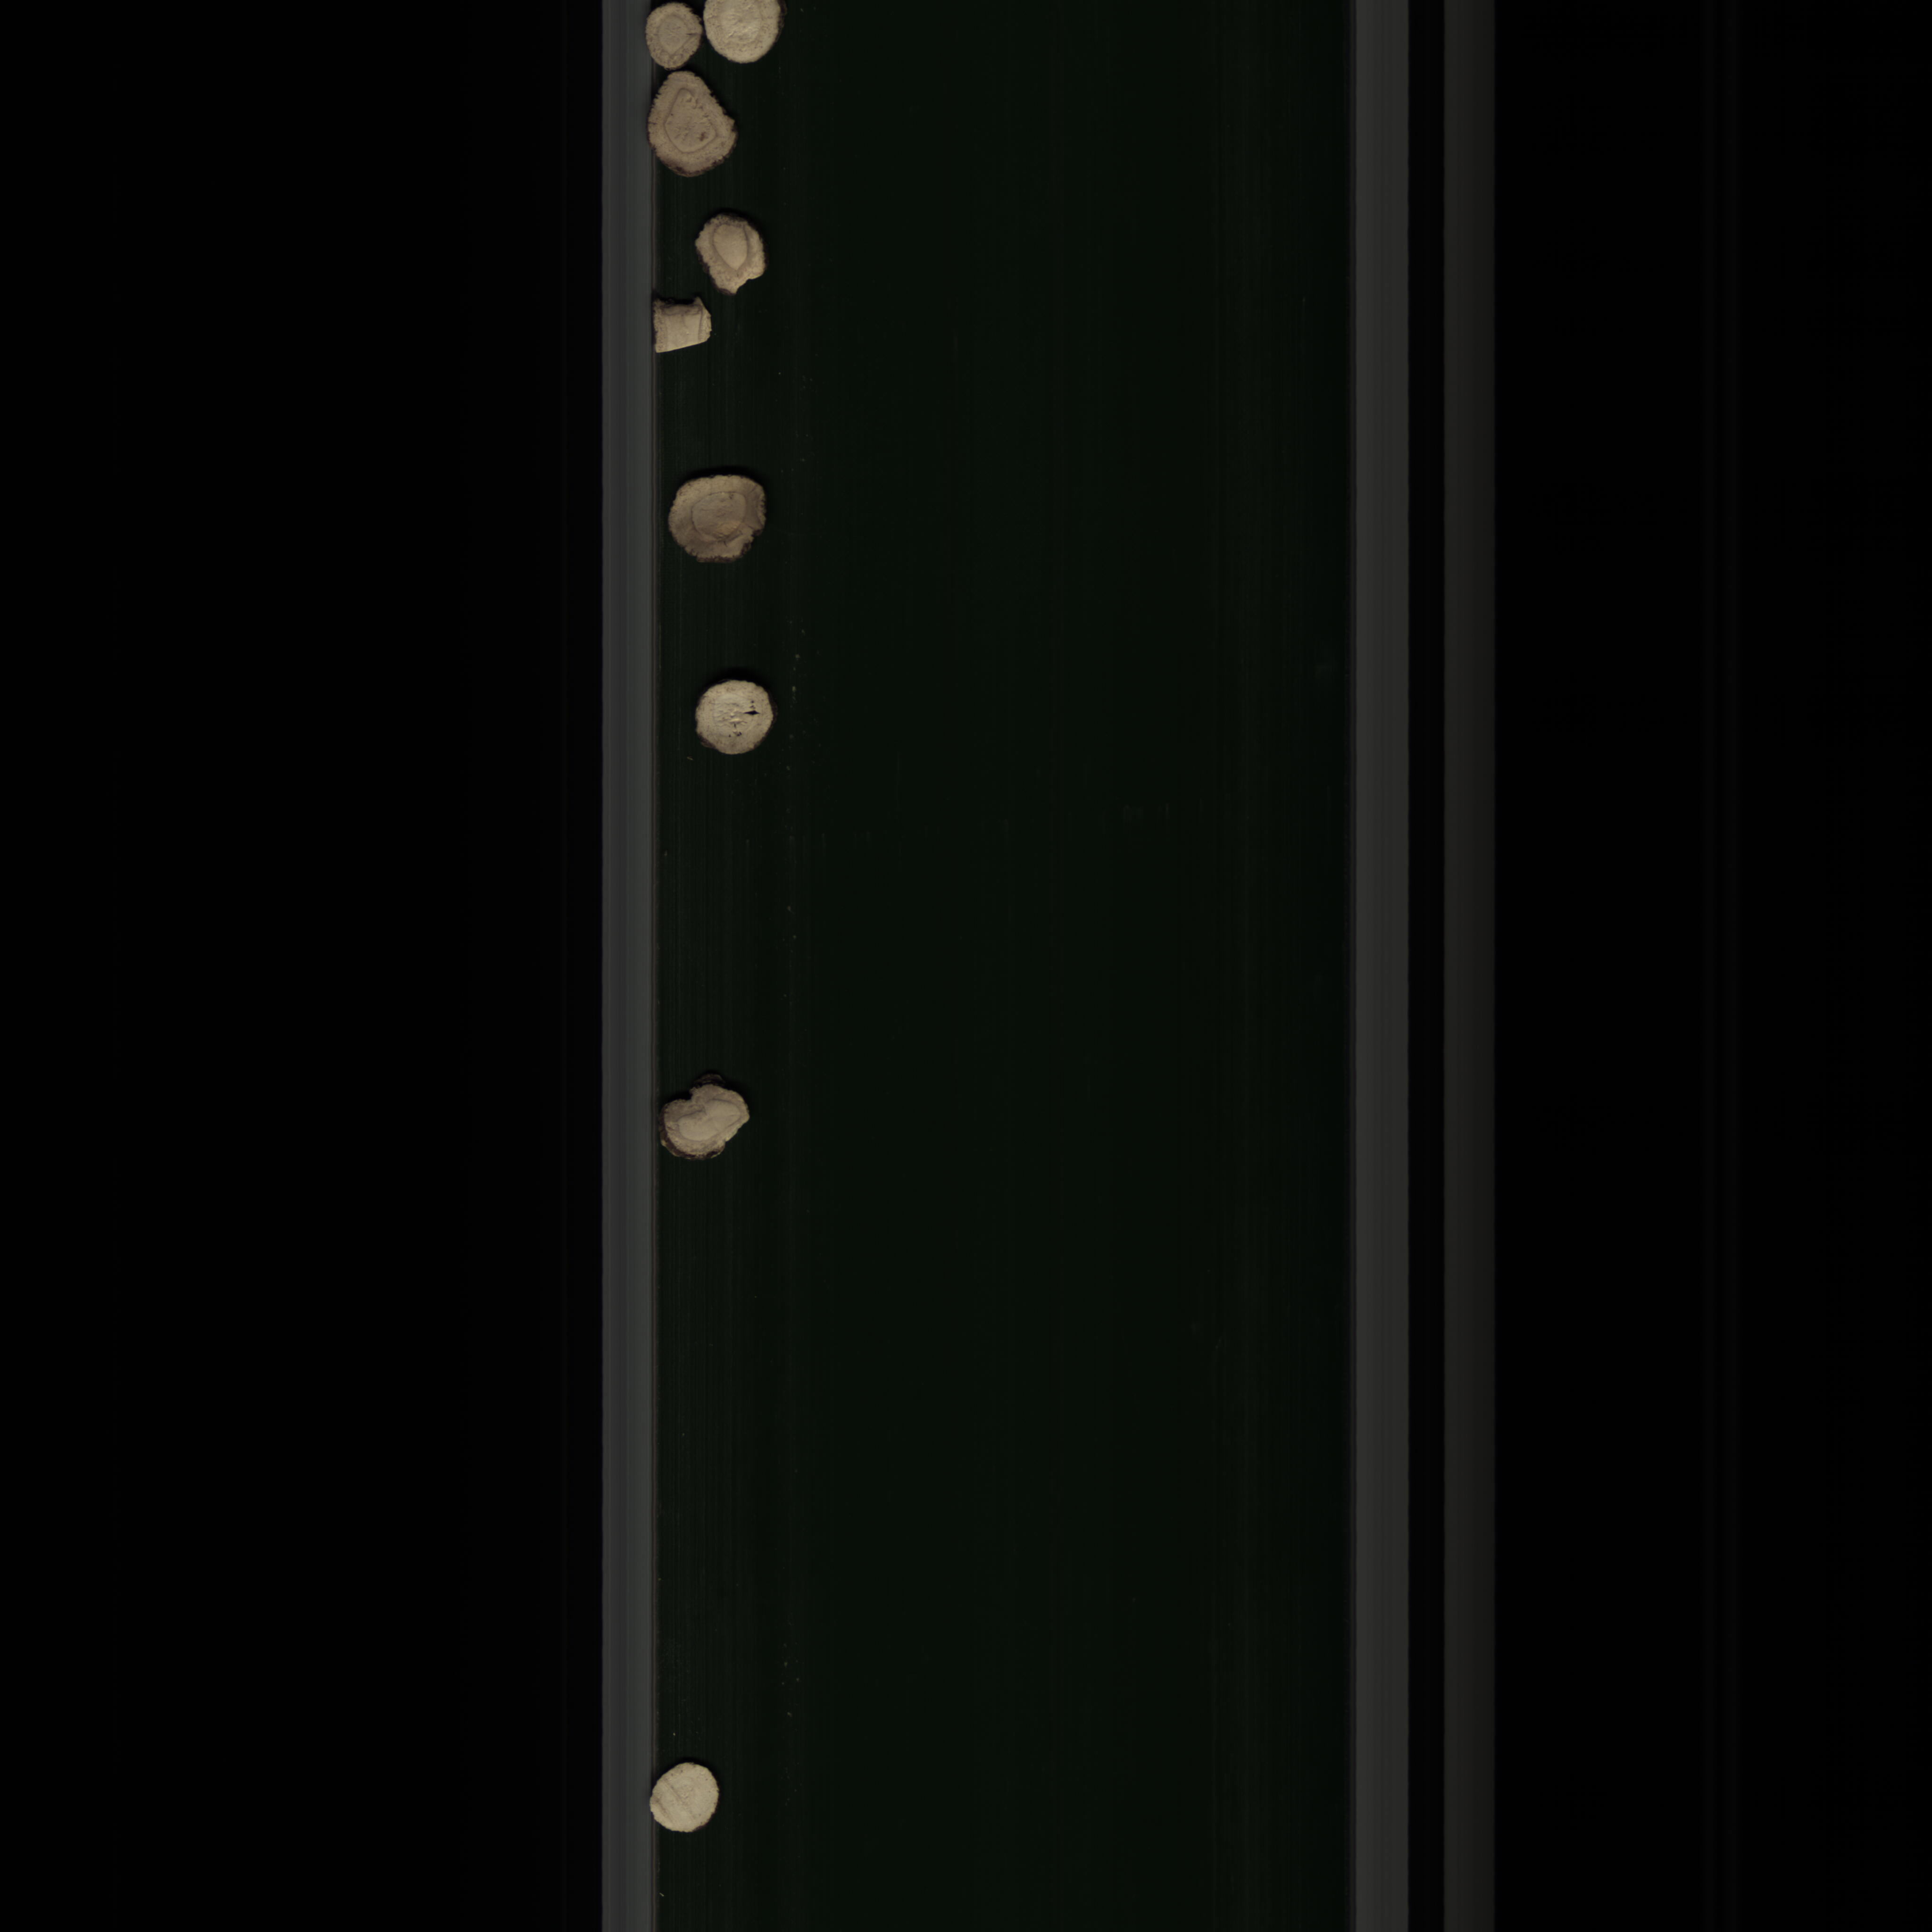debris: (649, 1077, 773, 1166), (640, 294, 720, 357)
hole: (685, 669, 782, 763)
